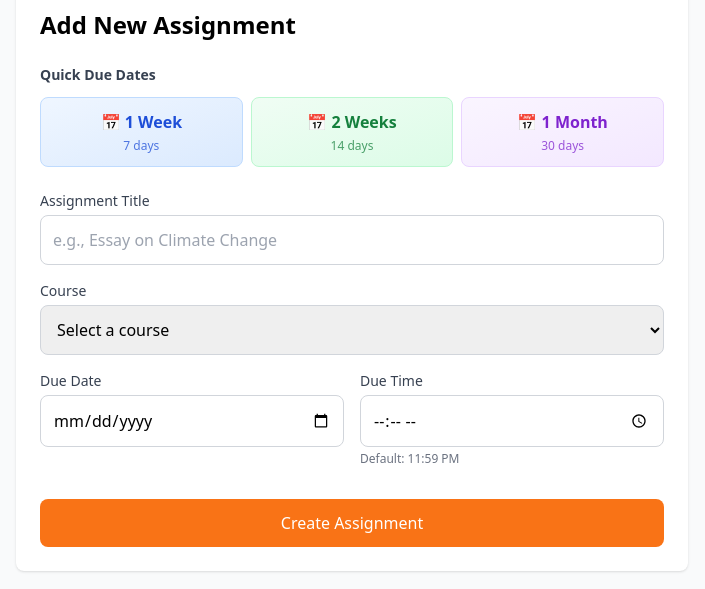
Test: AddAssignmentComponent › Quick Due Date Buttons › sets due date and time when 2 Weeks button is clicked
This screenshot has width=705, height=589.
Click the button "📅 2 Weeks 14 days" at [352, 132], box left=251, top=97, right=453, bottom=167
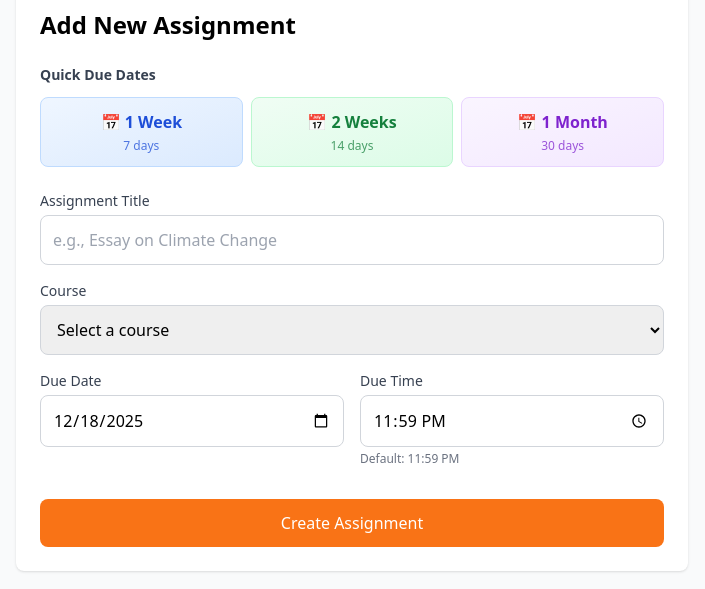
Now the time field showing "23:59" is shown, box left=360, top=395, right=664, bottom=447
